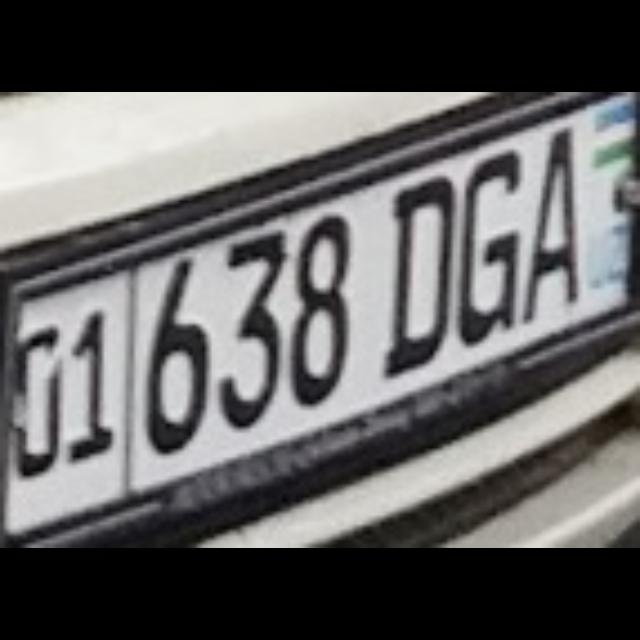0: (14, 320, 58, 472)
1: (62, 307, 108, 455)
3: (214, 227, 282, 428)
6: (138, 254, 206, 451)
8: (287, 209, 345, 401)
A: (515, 124, 573, 320)
D: (376, 172, 452, 374)
G: (457, 146, 515, 338)
